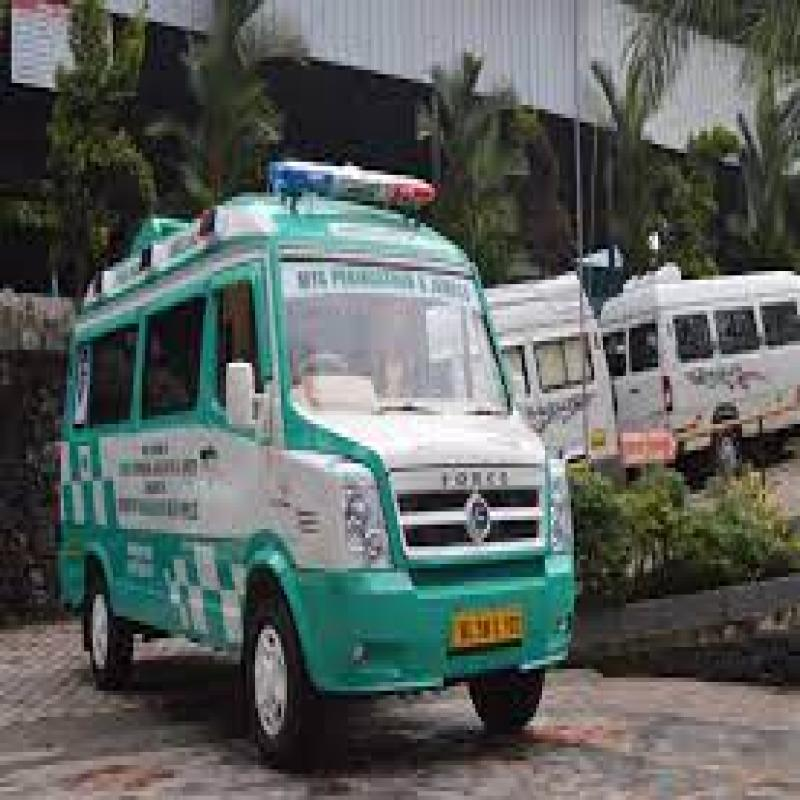ambulance: (73, 166, 551, 760)
